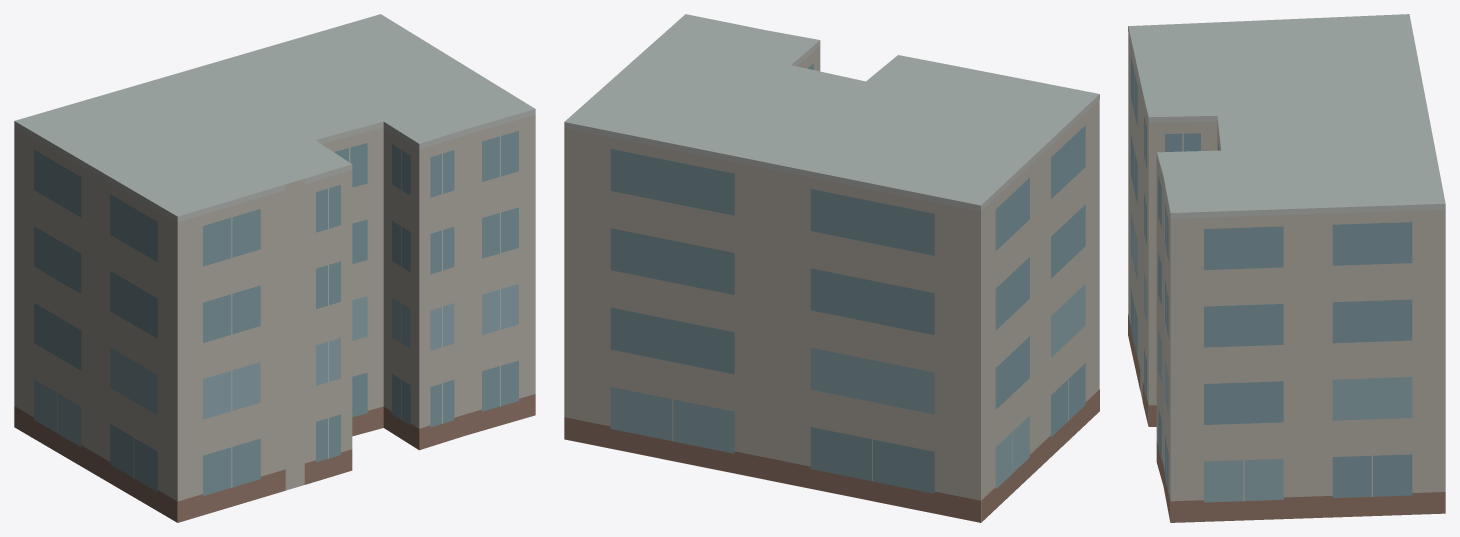
The model's file is survey-upis-32988497.glb.
3 renders of one model, left to right at view 1: azimuth 30°, elevation 25°; view 2: azimuth 150°, elevation 25°; view 3: azimuth 270°, elevation 25°, orthographic. The views are drawn at different scales.
Parts seen in each view (by area): view 1: survey-upis-32988497.tmp; view 2: survey-upis-32988497.tmp; view 3: survey-upis-32988497.tmp.
Part boxes in pixels (x1,y1,x2,y2): survey-upis-32988497.tmp: (14,14,535,522); survey-upis-32988497.tmp: (564,14,1099,522); survey-upis-32988497.tmp: (1128,14,1445,522).
Bounding box in the file's own units: 18.06 × 13.1 × 12.17.
